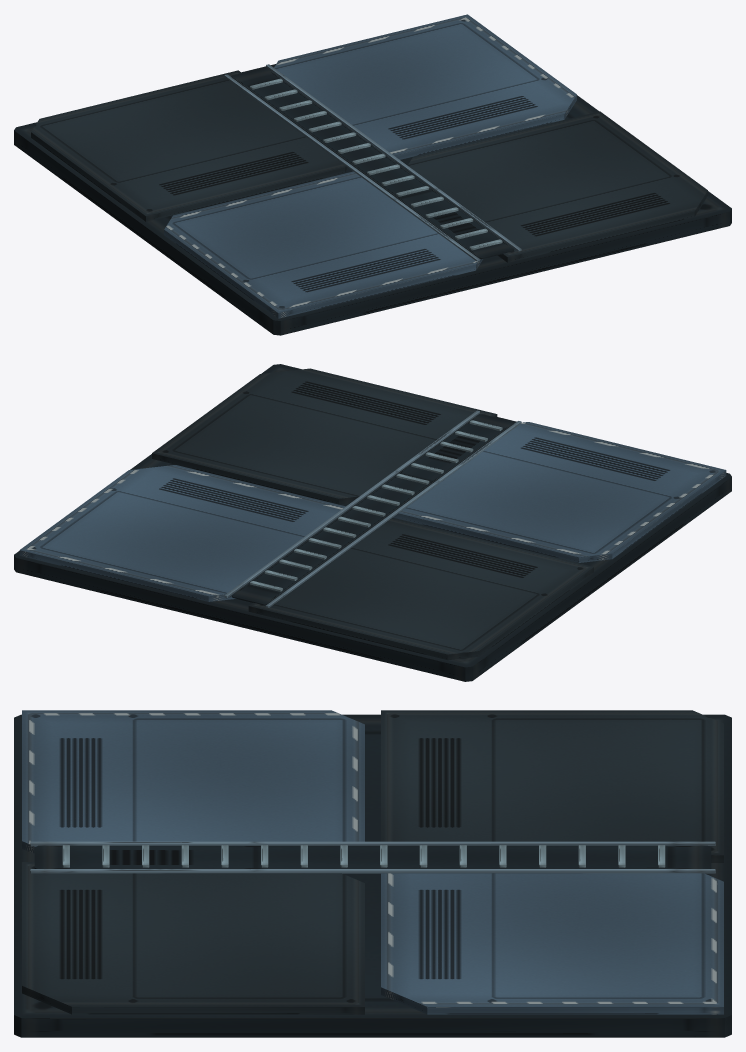
File: V47_Deck1.fbx
The picture shows the model from 3 angles, top to bottom: view 1: azimuth 30°, elevation 25°; view 2: azimuth 150°, elevation 25°; view 3: azimuth 270°, elevation 25°; orthographic projection. The views are drawn at different scales.
Parts seen in each view (by area): view 1: V47_Deck1; view 2: V47_Deck1; view 3: V47_Deck1.
Boxes of the visible parts, x1,y1,x2,y2 form: V47_Deck1: (14,14,731,335); V47_Deck1: (14,364,731,681); V47_Deck1: (14,710,731,1037).
Bounding box in the file's own units: 3.98 × 0.188 × 3.98.
